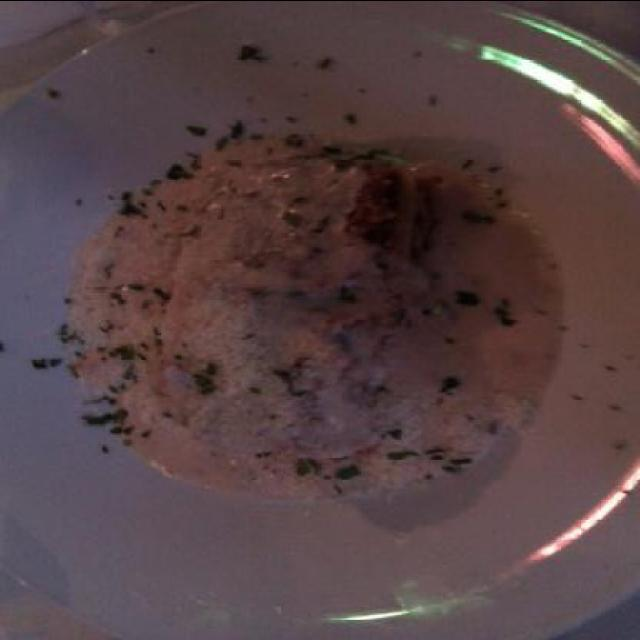Lasagna: (126, 130, 437, 461)
